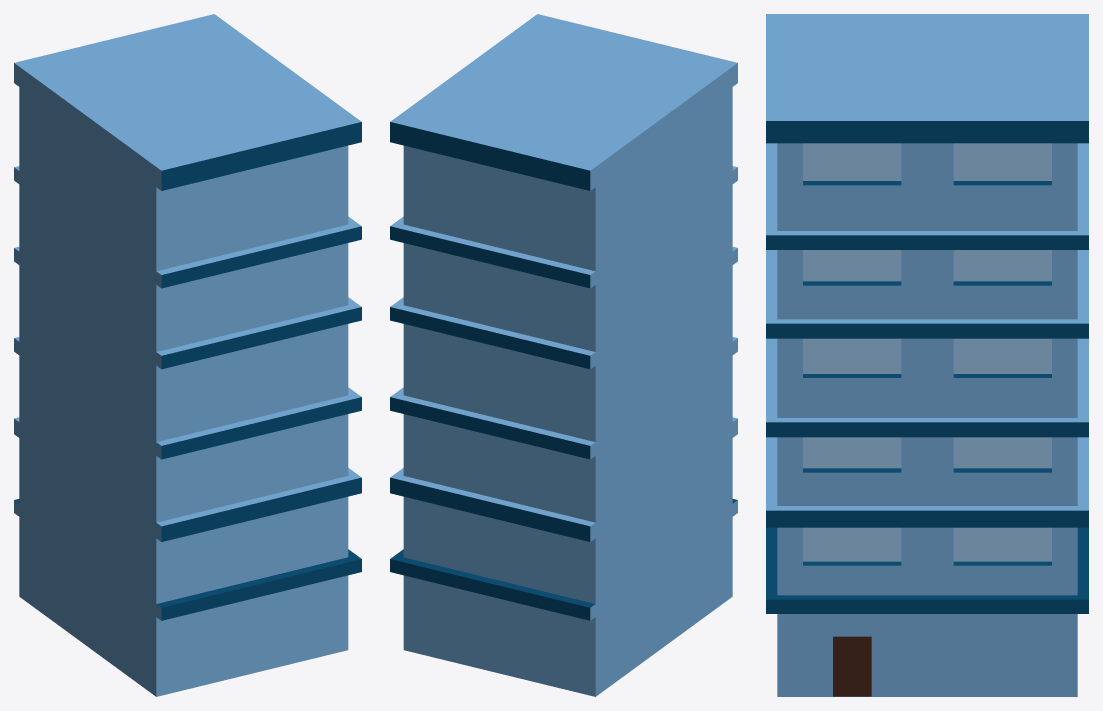
The model's file is blue building 2.fbx.
3 renders of one model, left to right at view 1: azimuth 30°, elevation 25°; view 2: azimuth 150°, elevation 25°; view 3: azimuth 270°, elevation 25°, orthographic. The views are drawn at different scales.
Parts seen in each view (by area): view 1: Cube; view 2: Cube; view 3: Cube.
Boxes of the visible parts, left/top/right/bottom form: Cube: left=14, top=14, right=361, bottom=696; Cube: left=390, top=14, right=737, bottom=696; Cube: left=766, top=14, right=1088, bottom=696.
Bounding box in the file's own units: 209 × 527 × 266.
